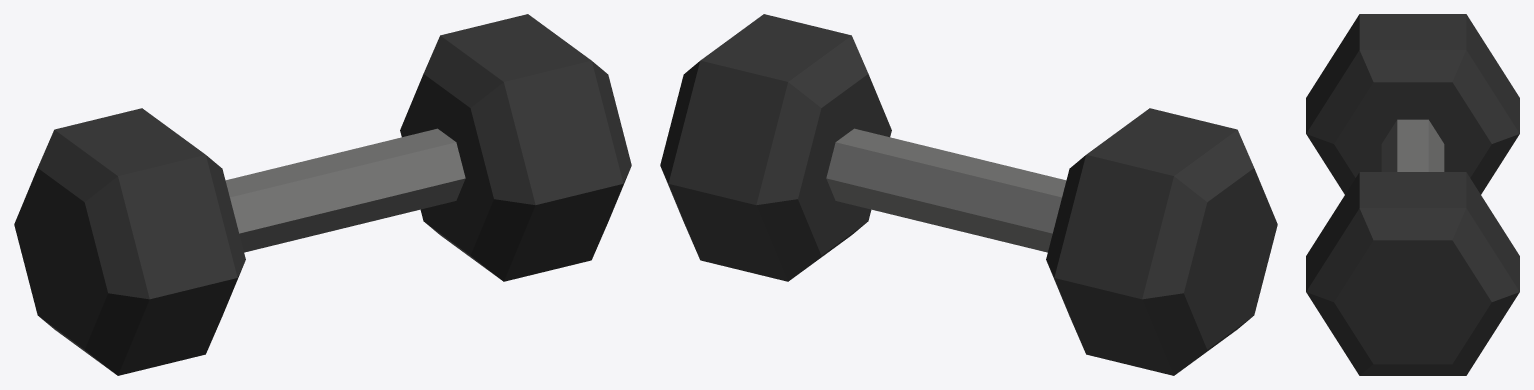
The model's file is SM_Props_Interior_Shop_Gym_Dumbble.fbx.
The picture shows the model from 3 angles, left to right: view 1: azimuth 30°, elevation 25°; view 2: azimuth 150°, elevation 25°; view 3: azimuth 270°, elevation 25°; orthographic projection. The views are drawn at different scales.
Visible parts, largest first — view 1: SM_Props_Interior_Shop_Gym_Dumbble; view 2: SM_Props_Interior_Shop_Gym_Dumbble; view 3: SM_Props_Interior_Shop_Gym_Dumbble.
Part boxes in pixels (<box>): SM_Props_Interior_Shop_Gym_Dumbble: <box>14,14,631,375</box>; SM_Props_Interior_Shop_Gym_Dumbble: <box>660,14,1277,375</box>; SM_Props_Interior_Shop_Gym_Dumbble: <box>1306,14,1519,375</box>.
Size of the model in its own units: 19 by 6.93 by 8.
